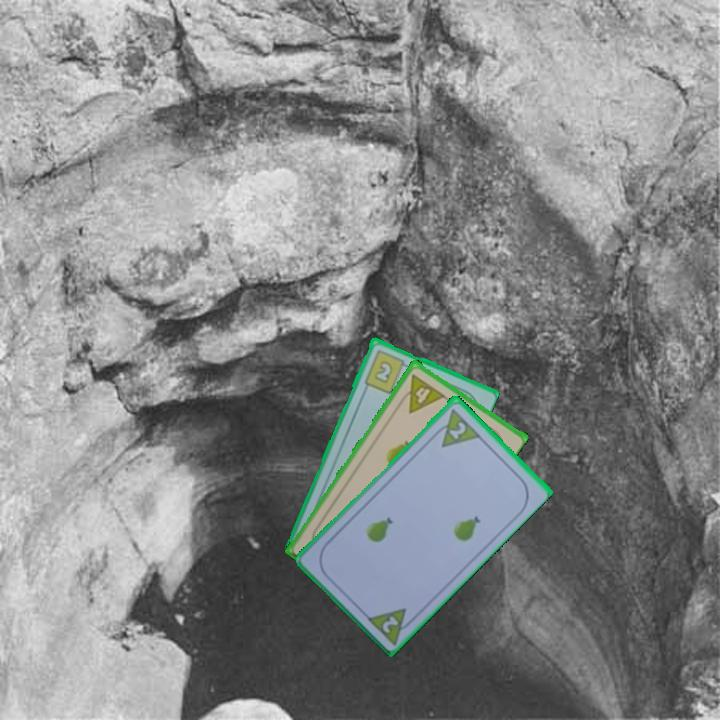2b: (360, 346, 412, 396)
2p: (362, 603, 419, 647), (429, 404, 482, 450)
4p: (395, 370, 447, 415)
